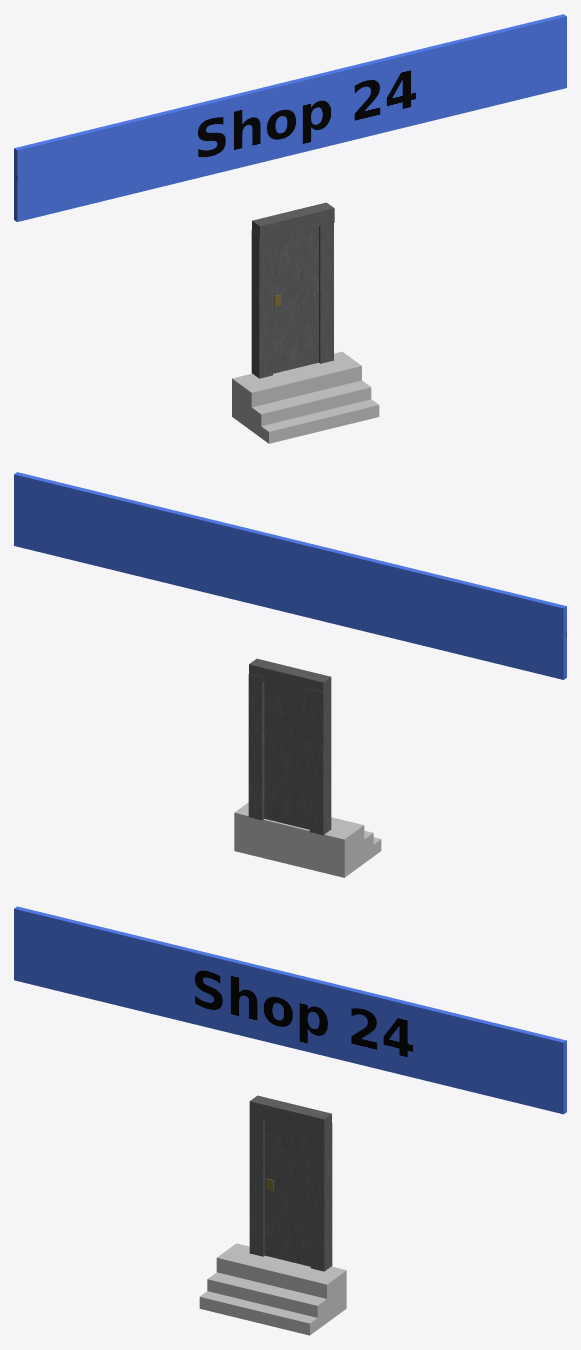
Rendered from sign2.obj.
3 renders of one model, top to bottom at view 1: azimuth 30°, elevation 25°; view 2: azimuth 150°, elevation 25°; view 3: azimuth 330°, elevation 25°, orthographic.
Parts seen in each view (by area): view 1: Cube.001_Cube.002_Material.001, Cube_Cube.003_None, porta_Mesh_Nuovo.1, Cubo_Mesh.005_Nuovo.1, Cubo_1_Mesh.004_Nuovo.1, Cubo_2_Mesh.003_Nuovo.1; view 2: Cube.001_Cube.002_Material.001, porta_Mesh_Nuovo.1, Cube_Cube.003_None, Cubo_Mesh.005_Nuovo.1, Cubo_1_Mesh.004_Nuovo.1, Cubo_2_Mesh.003_Nuovo.1; view 3: Cube.001_Cube.002_Material.001, Cube_Cube.003_None, porta_Mesh_Nuovo.1, Cubo_1_Mesh.004_Nuovo.1, Cubo_Mesh.005_Nuovo.1, Cubo_2_Mesh.003_Nuovo.1.
Part boxes in pixels (bbox=[...]): Cube.001_Cube.002_Material.001: bbox=[14, 14, 566, 221]; Cube_Cube.003_None: bbox=[232, 351, 379, 443]; porta_Mesh_Nuovo.1: bbox=[273, 226, 318, 373]; Cubo_Mesh.005_Nuovo.1: bbox=[251, 230, 272, 378]; Cubo_1_Mesh.004_Nuovo.1: bbox=[319, 222, 333, 363]; Cubo_2_Mesh.003_Nuovo.1: bbox=[252, 202, 334, 240]; Cube.001_Cube.002_Material.001: bbox=[14, 472, 566, 679]; porta_Mesh_Nuovo.1: bbox=[264, 682, 309, 829]; Cube_Cube.003_None: bbox=[234, 802, 381, 877]; Cubo_Mesh.005_Nuovo.1: bbox=[309, 687, 331, 835]; Cubo_1_Mesh.004_Nuovo.1: bbox=[248, 674, 264, 820]; Cubo_2_Mesh.003_Nuovo.1: bbox=[249, 658, 331, 693]; Cube.001_Cube.002_Material.001: bbox=[14, 906, 566, 1114]; Cube_Cube.003_None: bbox=[199, 1243, 346, 1335]; porta_Mesh_Nuovo.1: bbox=[264, 1119, 310, 1266]; Cubo_1_Mesh.004_Nuovo.1: bbox=[310, 1123, 332, 1271]; Cubo_Mesh.005_Nuovo.1: bbox=[249, 1115, 264, 1256]; Cubo_2_Mesh.003_Nuovo.1: bbox=[249, 1095, 331, 1133].
Size of the model in its own units: 8.04 by 4.51 by 0.9547.
Materials: 4 (2 with a texture image).
